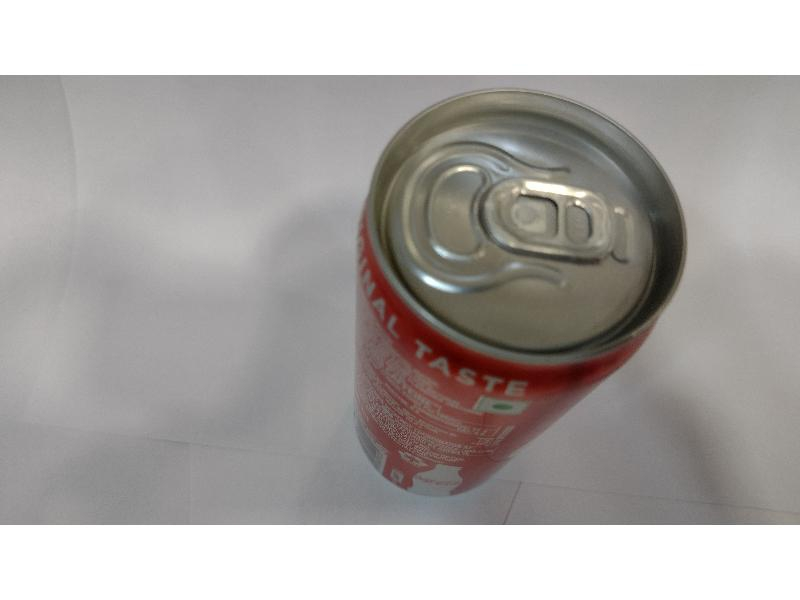can: (345, 88, 688, 499)
